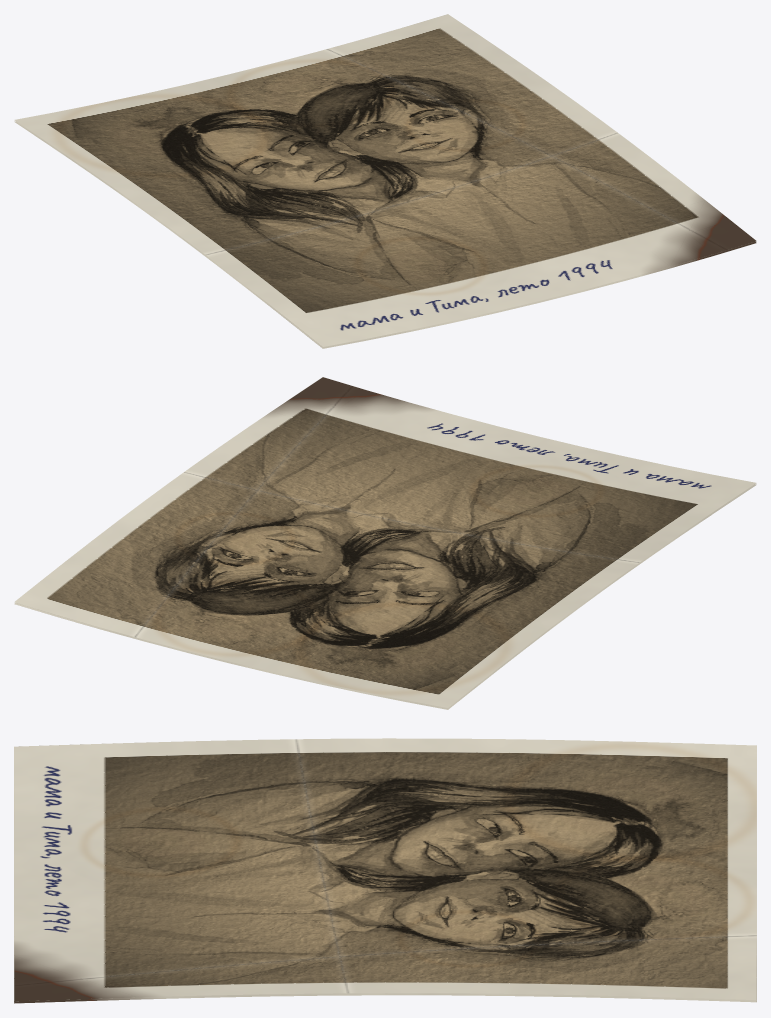
The model's file is Photo_Mom.fbx.
The picture shows the model from 3 angles, top to bottom: view 1: azimuth 30°, elevation 25°; view 2: azimuth 150°, elevation 25°; view 3: azimuth 270°, elevation 25°; orthographic projection. The views are drawn at different scales.
Parts seen in each view (by area): view 1: Photo_Mom; view 2: Photo_Mom; view 3: Photo_Mom.
Boxes of the visible parts, box(x1,y1,x2,y2) form: Photo_Mom: box(14, 14, 756, 348); Photo_Mom: box(14, 377, 756, 709); Photo_Mom: box(14, 738, 756, 1003).
Bounding box in the file's own units: 0.1 × 0.0034 × 0.1233.
Materials: 2 (2 with a texture image).
